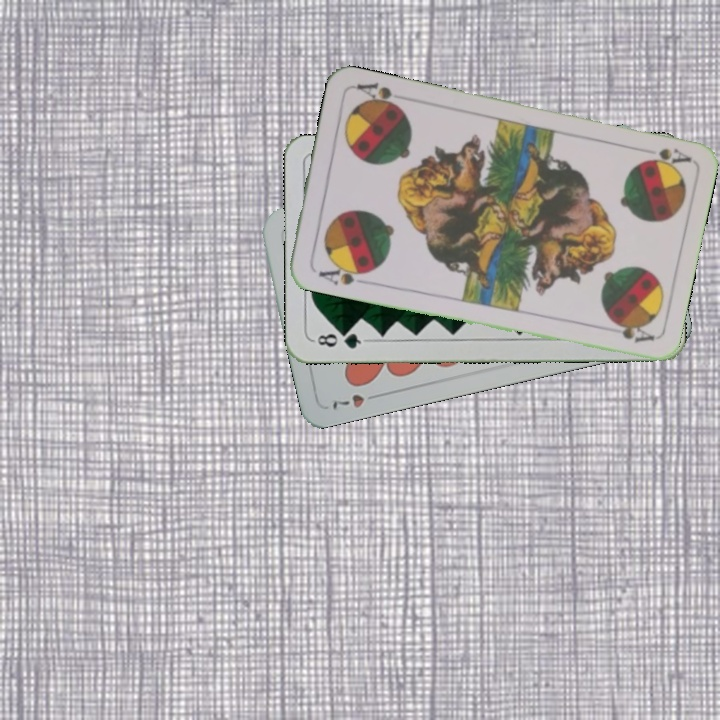G8: (310, 328, 369, 352)
H7: (326, 389, 384, 412)
SA: (314, 259, 372, 288), (637, 144, 693, 171)
